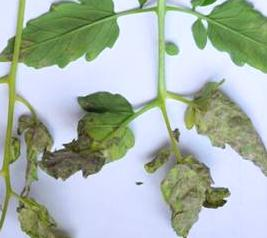Tomato mold leaf: (39, 90, 136, 185), (0, 0, 123, 71), (182, 79, 267, 179), (201, 1, 267, 78), (152, 156, 212, 238)
